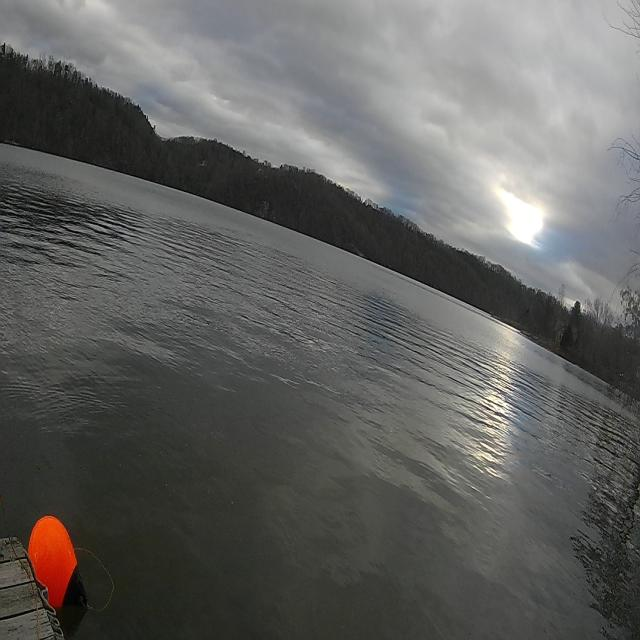Buoy: (22, 498, 94, 624)
